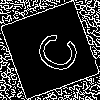C: (25, 25, 82, 77)
